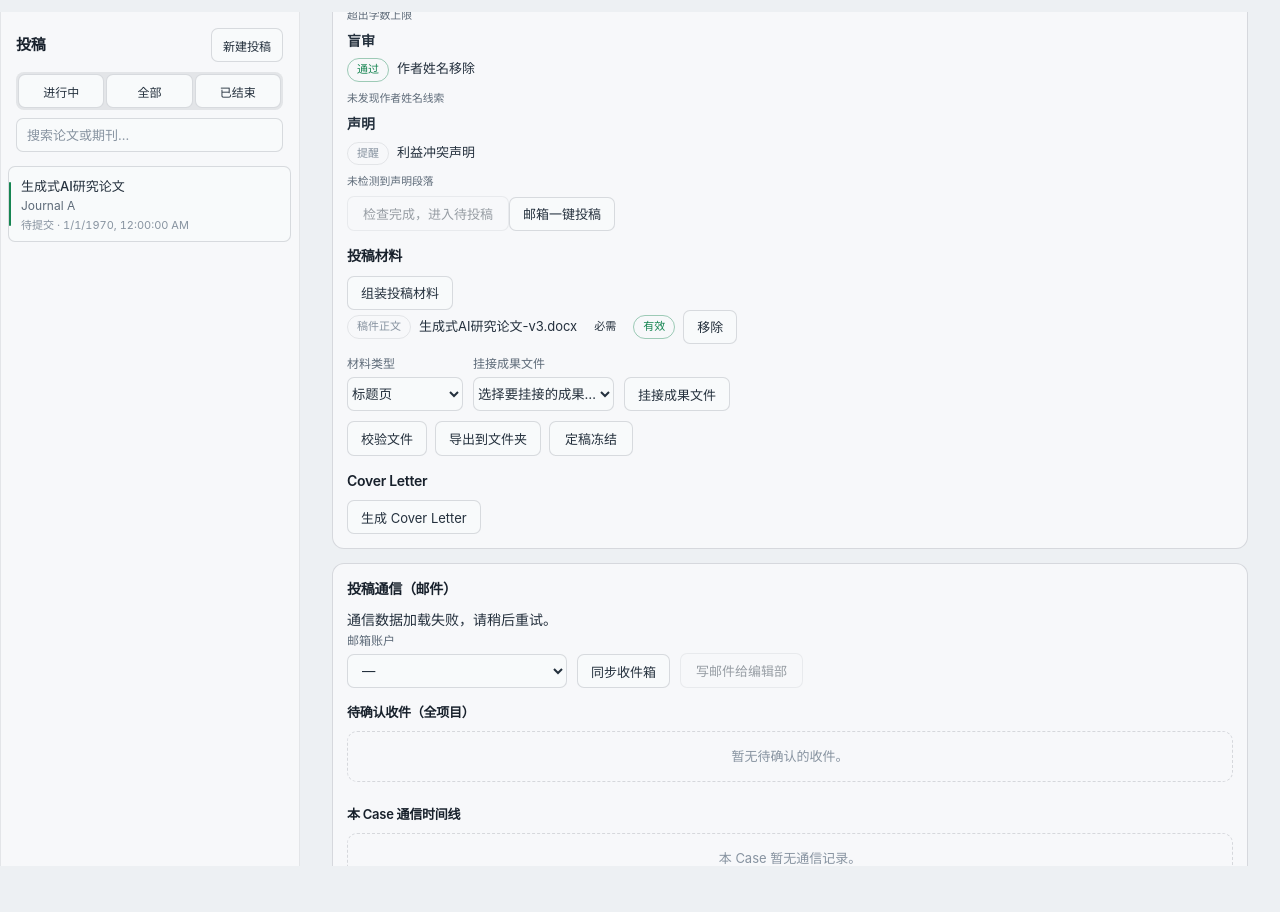
Test: SubmissionsPage 投稿检查与材料包（P2） › 冻结被拒绝时显示未通过提示
(page scrolled)
Click the button "定稿冻结". click: {"x": 591, "y": 438}
box: [549,421,633,456]
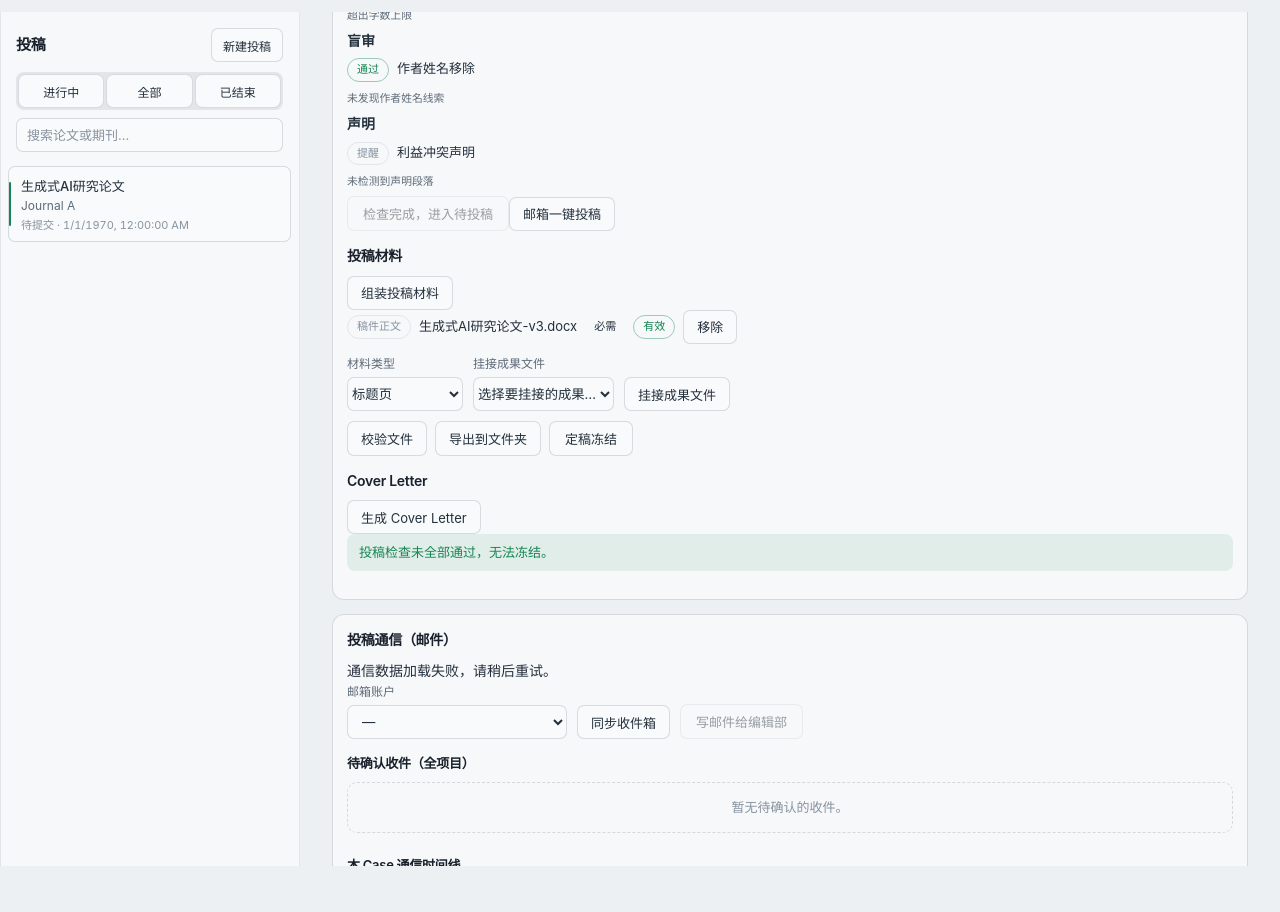
Expected: the text "投稿检查未全部通过，无法冻结。" is shown, [347,534,1233,571]
